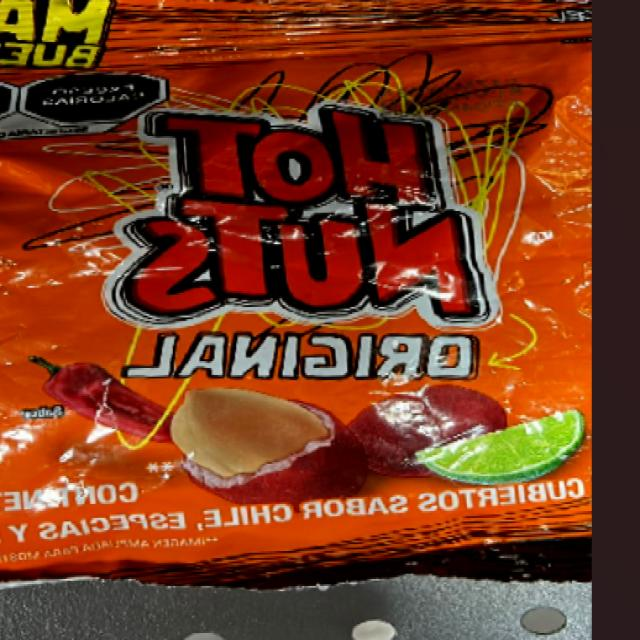hotNutsOriginal: (3, 6, 590, 564)
